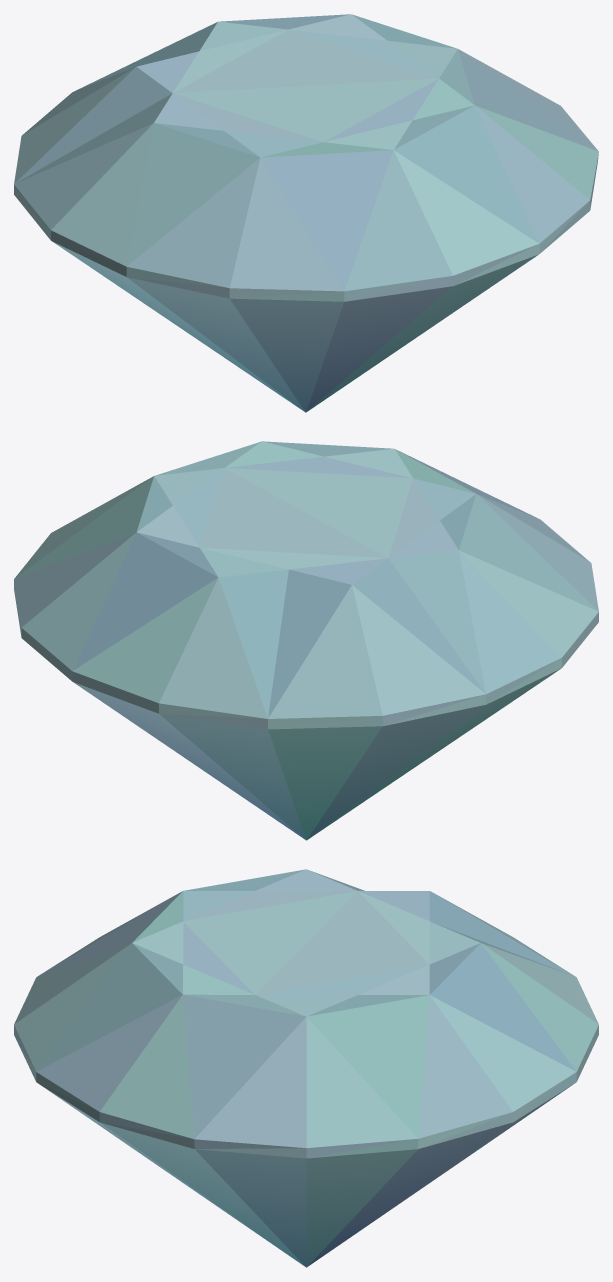
Rendered from geology-crystals-diamond_v3.fbx.
3 renders of one model, top to bottom at view 1: azimuth 30°, elevation 25°; view 2: azimuth 150°, elevation 25°; view 3: azimuth 270°, elevation 25°, orthographic.
Parts seen in each view (by area): view 1: Diamond_v3; view 2: Diamond_v3; view 3: Diamond_v3.
Boxes of the visible parts, x1,y1,x2,y2 form: Diamond_v3: [14, 14, 598, 412]; Diamond_v3: [14, 441, 598, 840]; Diamond_v3: [14, 869, 598, 1267].
Bounding box in the file's own units: 0.9188 × 0.5628 × 0.9188.
